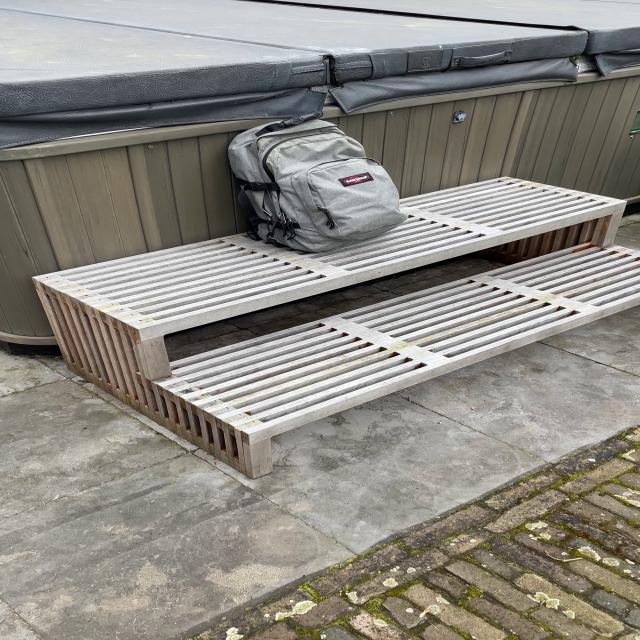backpack: (221, 114, 411, 256)
